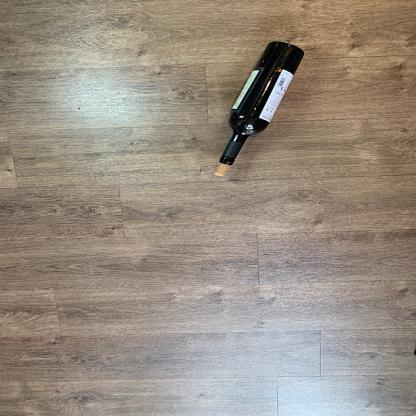trash: (216, 39, 306, 169)
